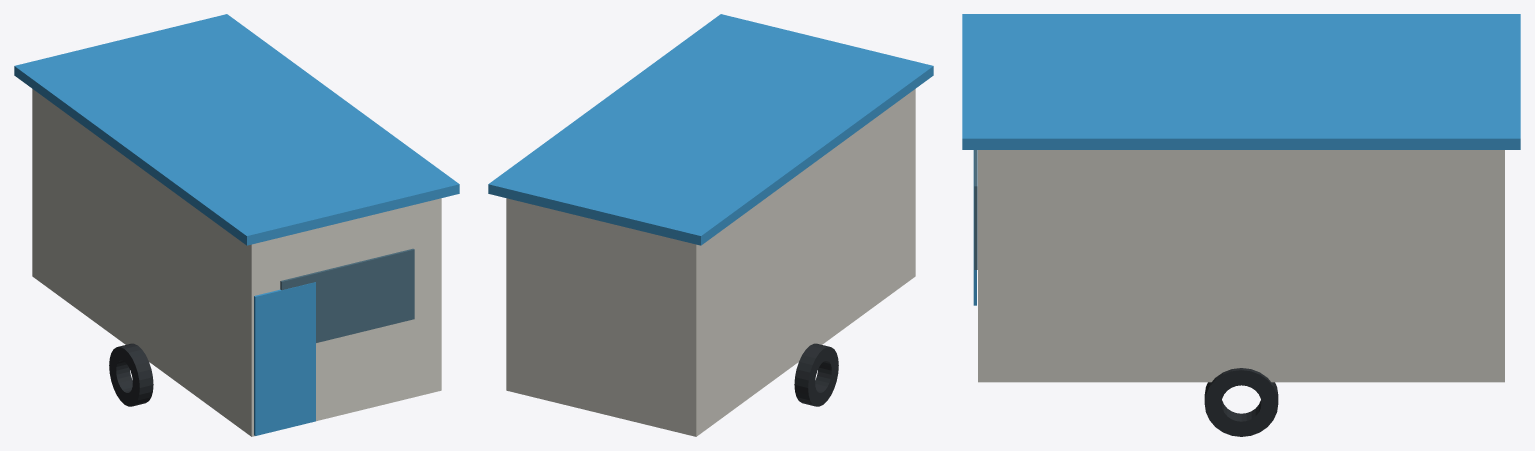
File: stock-car-oval-speedway-souvenir-trailer-a40cf50a__16939.glb
3 views of the same model, side by side, from view 1: azimuth 30°, elevation 25°; view 2: azimuth 150°, elevation 25°; view 3: azimuth 270°, elevation 25° (orthographic). The views are drawn at different scales.
Visible parts, largest first — view 1: souvenir-trailer; view 2: souvenir-trailer; view 3: souvenir-trailer.
Part boxes in pixels (x1,y1,x2,y2): souvenir-trailer: [14, 14, 459, 436]; souvenir-trailer: [488, 14, 933, 436]; souvenir-trailer: [962, 14, 1520, 436].
Bounding box in the file's own units: 2.88 × 3.17 × 5.3.
